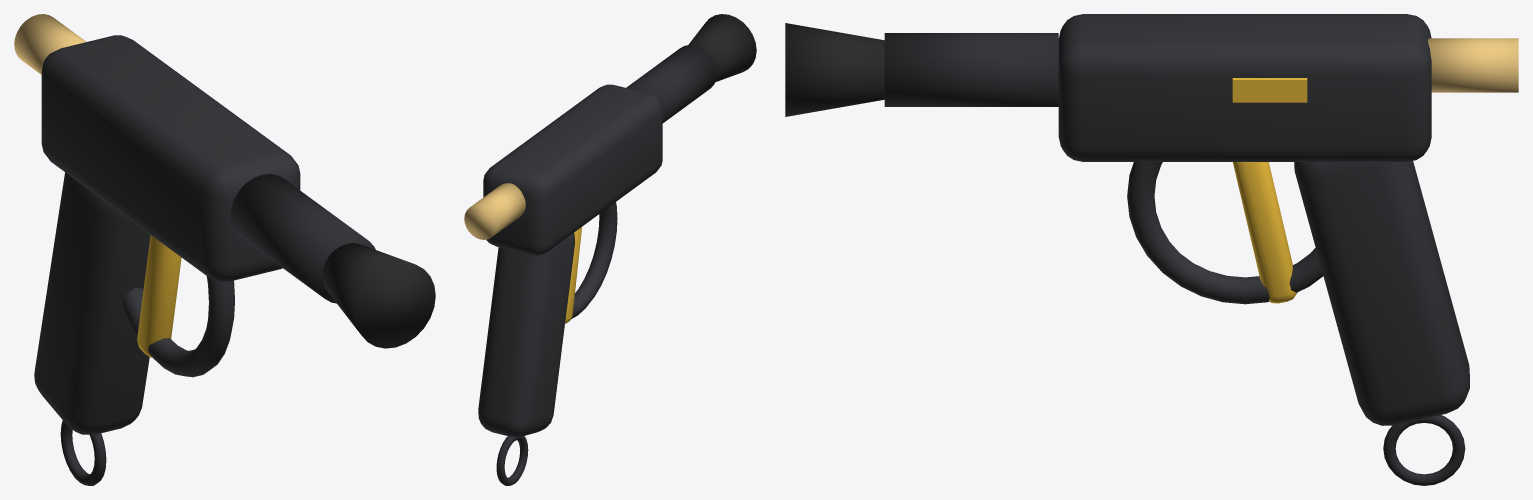
Rendered from Pistolet.fbx.
3 views of the same model, side by side, from view 1: azimuth 30°, elevation 25°; view 2: azimuth 150°, elevation 25°; view 3: azimuth 270°, elevation 25° (orthographic). The views are drawn at different scales.
Parts seen in each view (by area): view 1: Pistolet_Body, Pistolet_Grip, Pistolet_Barrel, Pistolet_Nozzle, Pistolet_Guard, Pistolet_Trigger, Pistolet_Inlet, Pistolet_HangRing; view 2: Pistolet_Body, Pistolet_Grip, Pistolet_Barrel, Pistolet_Nozzle, Pistolet_Inlet, Pistolet_Guard, Pistolet_HangRing, Pistolet_Trigger; view 3: Pistolet_Body, Pistolet_Grip, Pistolet_Barrel, Pistolet_Nozzle, Pistolet_Guard, Pistolet_Trigger, Pistolet_Inlet, Pistolet_HangRing, Pistolet_Label.
Part boxes in pixels (bbox=[...]): Pistolet_Body: bbox=[41, 35, 300, 281]; Pistolet_Grip: bbox=[34, 172, 150, 434]; Pistolet_Barrel: bbox=[230, 174, 375, 303]; Pistolet_Nozzle: bbox=[322, 243, 435, 348]; Pistolet_Guard: bbox=[122, 276, 234, 377]; Pistolet_Trigger: bbox=[137, 235, 181, 357]; Pistolet_Inlet: bbox=[14, 14, 86, 74]; Pistolet_HangRing: bbox=[60, 420, 106, 485]; Pistolet_Body: bbox=[483, 84, 662, 255]; Pistolet_Grip: bbox=[478, 233, 575, 436]; Pistolet_Barrel: bbox=[626, 45, 716, 123]; Pistolet_Nozzle: bbox=[688, 14, 756, 82]; Pistolet_Inlet: bbox=[464, 183, 525, 239]; Pistolet_Guard: bbox=[571, 202, 617, 318]; Pistolet_HangRing: bbox=[496, 436, 528, 485]; Pistolet_Trigger: bbox=[565, 227, 581, 323]; Pistolet_Body: bbox=[1058, 14, 1431, 161]; Pistolet_Grip: bbox=[1294, 161, 1469, 425]; Pistolet_Barrel: bbox=[884, 33, 1058, 106]; Pistolet_Nozzle: bbox=[785, 23, 884, 116]; Pistolet_Guard: bbox=[1127, 162, 1323, 304]; Pistolet_Trigger: bbox=[1233, 162, 1296, 303]; Pistolet_Inlet: bbox=[1428, 38, 1518, 92]; Pistolet_HangRing: bbox=[1383, 415, 1465, 485]; Pistolet_Label: bbox=[1232, 78, 1307, 102].
Size of the model in its own units: 0.047 by 0.2035 by 0.295.
